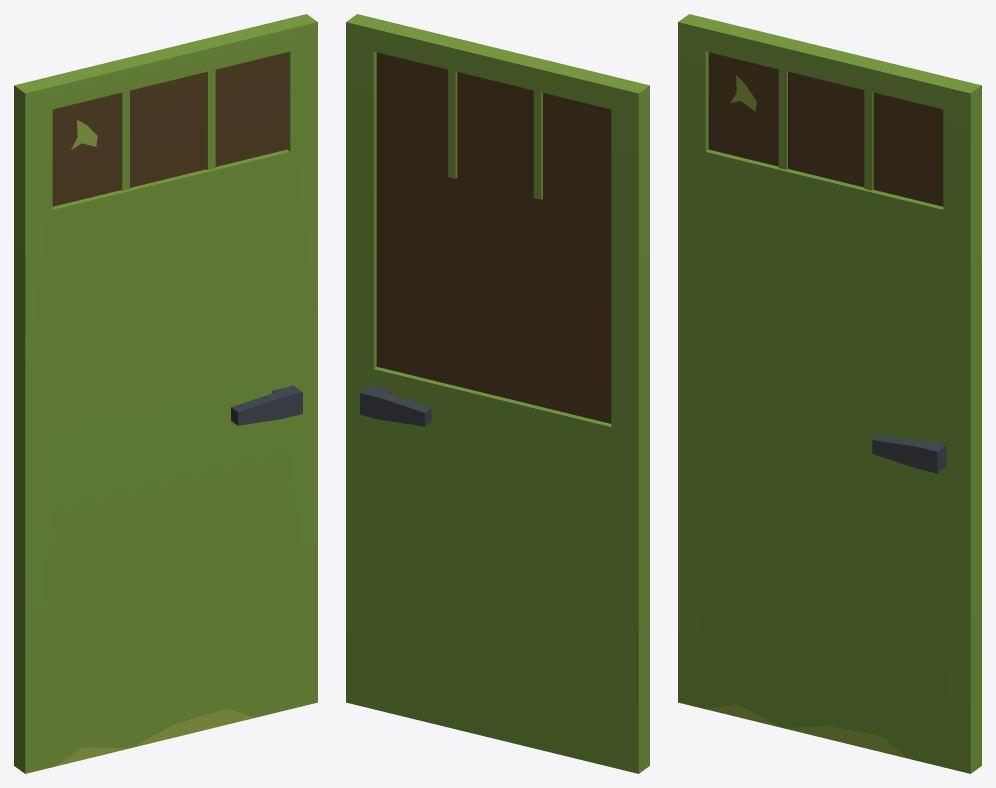
Rendered from OldHouse_09_Door01.fbx.
3 renders of one model, left to right at view 1: azimuth 30°, elevation 25°; view 2: azimuth 150°, elevation 25°; view 3: azimuth 330°, elevation 25°, orthographic.
Parts seen in each view (by area): view 1: OldHouse_09_Door01; view 2: OldHouse_09_Door01; view 3: OldHouse_09_Door01.
Boxes of the visible parts, bbox=[...] form: OldHouse_09_Door01: bbox=[14, 14, 317, 773]; OldHouse_09_Door01: bbox=[346, 14, 649, 773]; OldHouse_09_Door01: bbox=[678, 14, 981, 773].
Size of the model in its own units: 0.9 by 2 by 0.1641.
